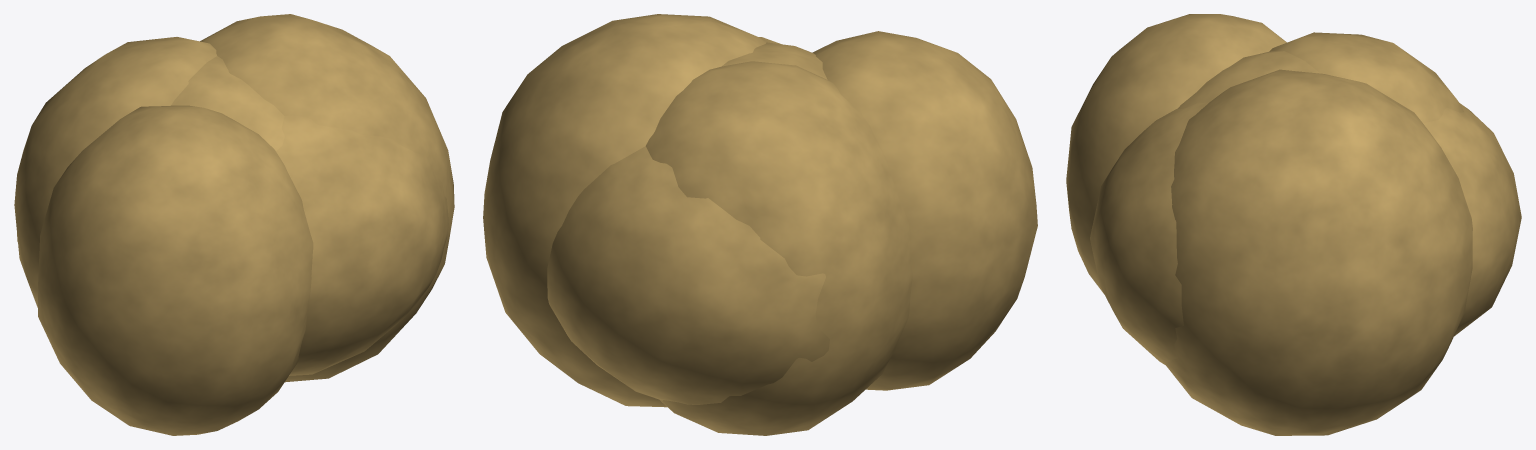
The model's file is pv_hromada_zlato.glb.
The picture shows the model from 3 angles, left to right: view 1: azimuth 30°, elevation 25°; view 2: azimuth 150°, elevation 25°; view 3: azimuth 270°, elevation 25°; orthographic projection. The views are drawn at different scales.
Parts seen in each view (by area): view 1: dum; view 2: dum; view 3: dum.
Part boxes in pixels (bbox=[...]): dum: bbox=[14, 14, 454, 435]; dum: bbox=[483, 14, 1037, 435]; dum: bbox=[1066, 14, 1521, 435].
Size of the model in its own units: 9.04 by 6.88 by 8.39.
1 material, 1 textured.
